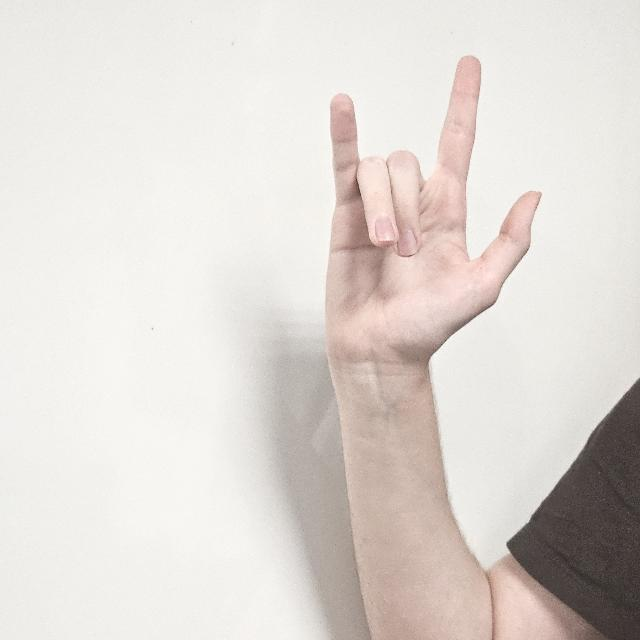Cima: (326, 54, 540, 366)
